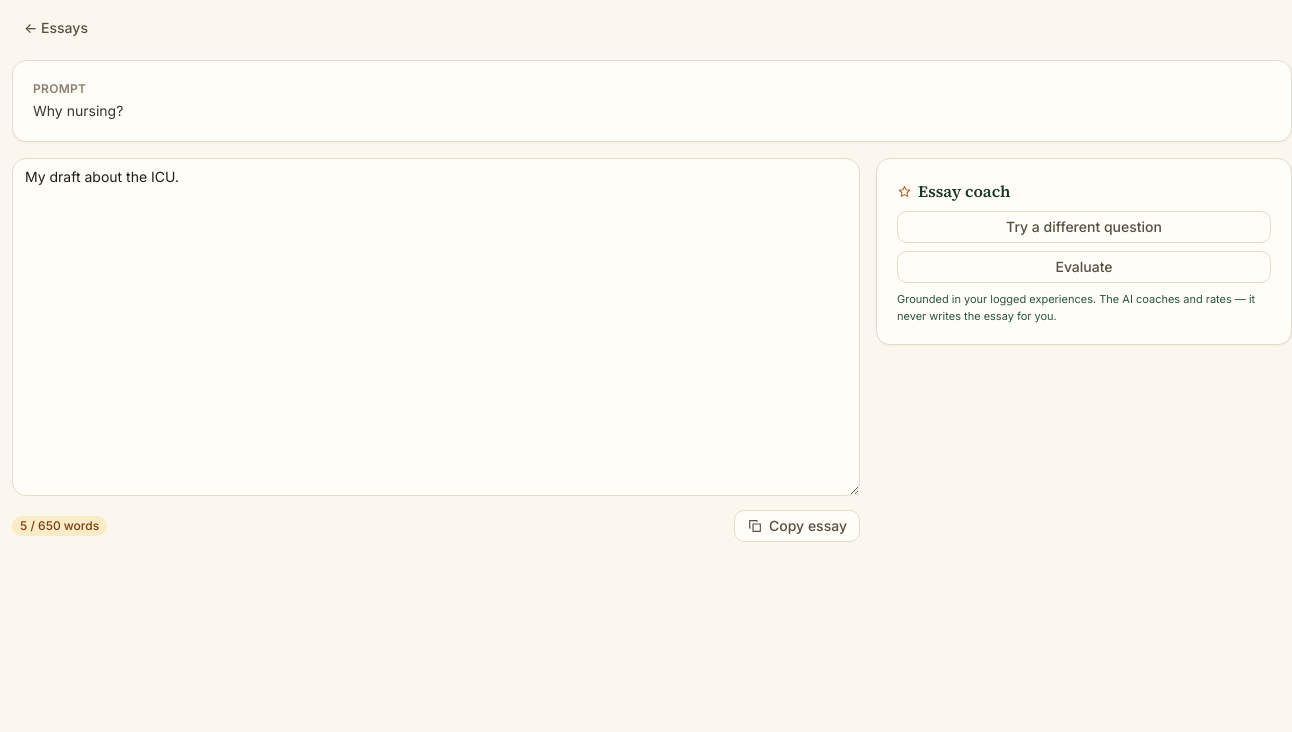
Scenario: EssayWorkspace — essay coach › does NOT navigate away (and shows the error) when the autosave fails
Click the button "Try a different question" at (1084, 227), box left=897, top=211, right=1271, bottom=243
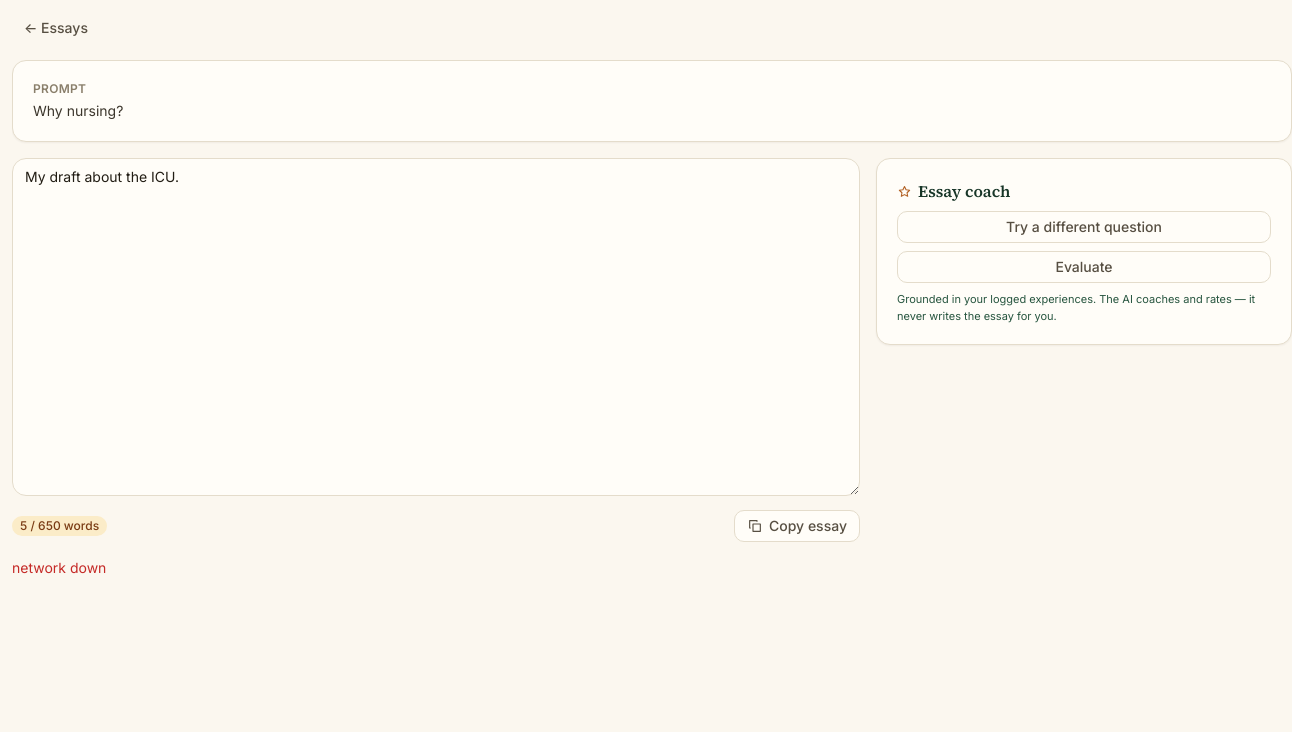
Expected: the text "network down" is shown, left=12, top=559, right=106, bottom=576
